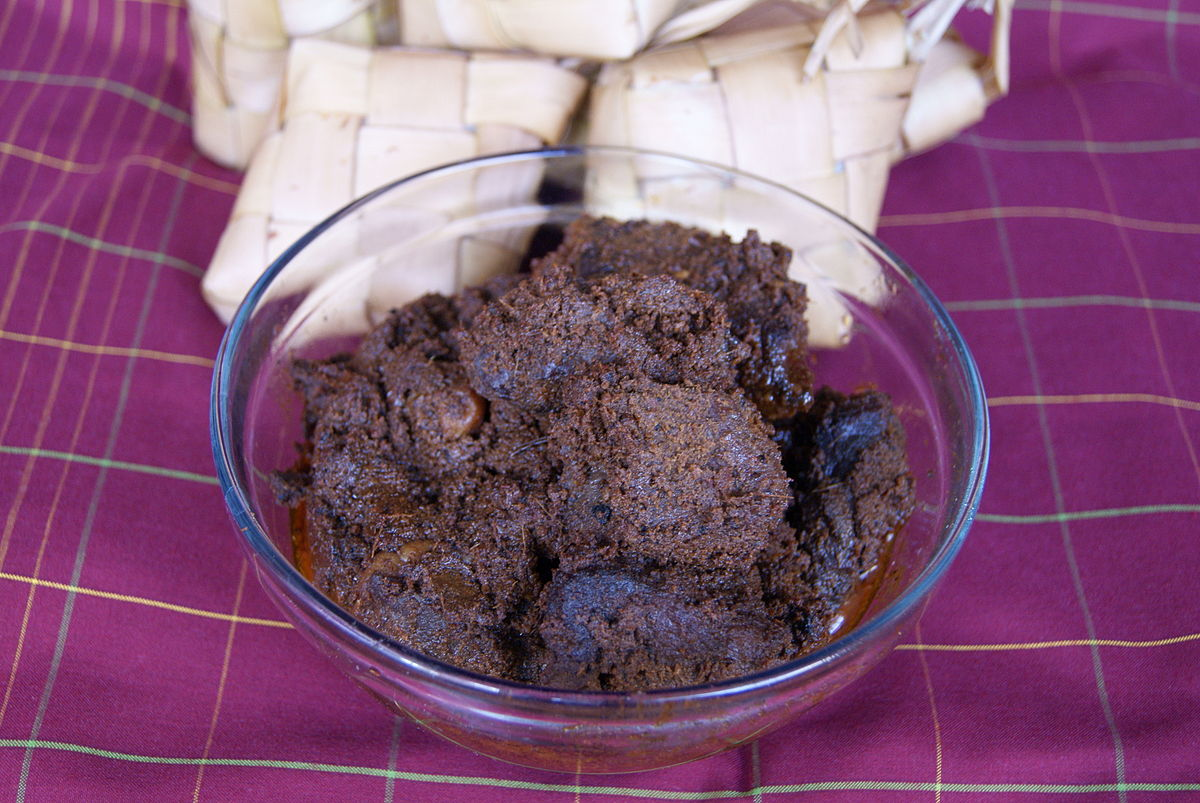rendang: (239, 170, 974, 757)
